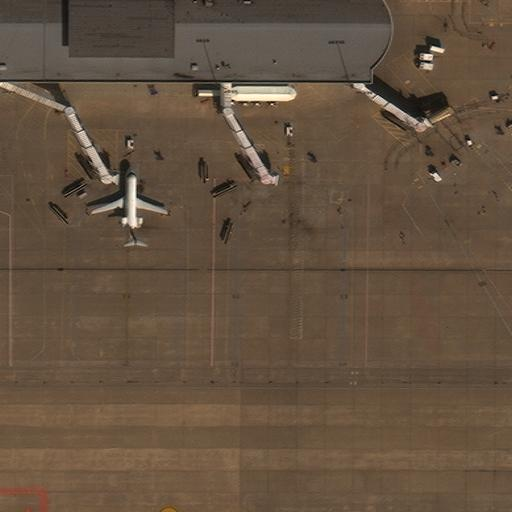Medium Civil Transport: (92, 168, 168, 246)
